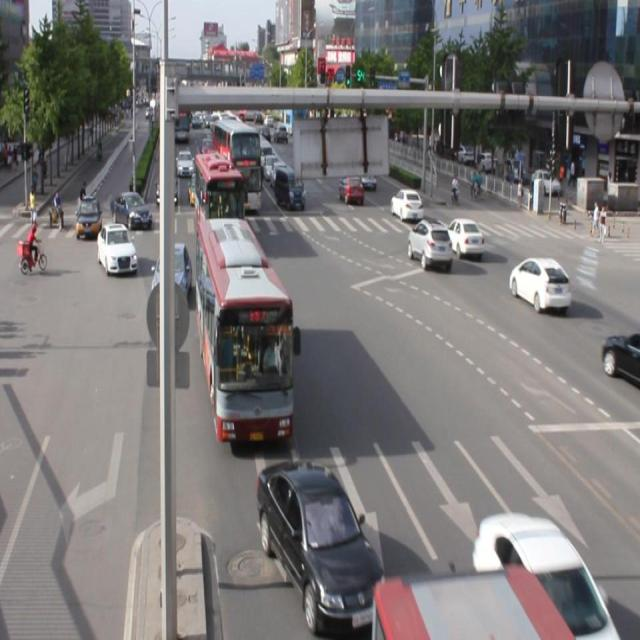car: (257, 458, 387, 640), (474, 512, 622, 640), (508, 255, 571, 312), (150, 242, 191, 309), (408, 218, 452, 268), (97, 222, 137, 277), (443, 217, 484, 257)
van: (197, 219, 294, 441)
